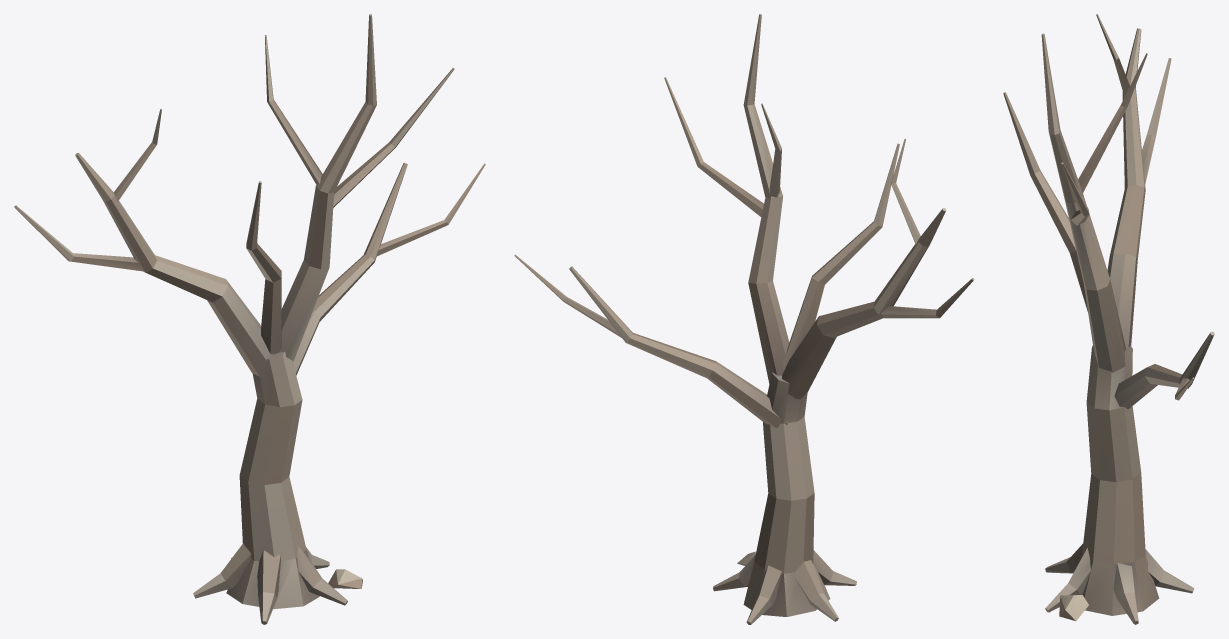
Rendered from deadtree.glb.
The picture shows the model from 3 angles, left to right: view 1: azimuth 30°, elevation 25°; view 2: azimuth 150°, elevation 25°; view 3: azimuth 270°, elevation 25°; orthographic projection. The views are drawn at different scales.
Size of the model in its own units: 7.27 by 8.5 by 2.75.
